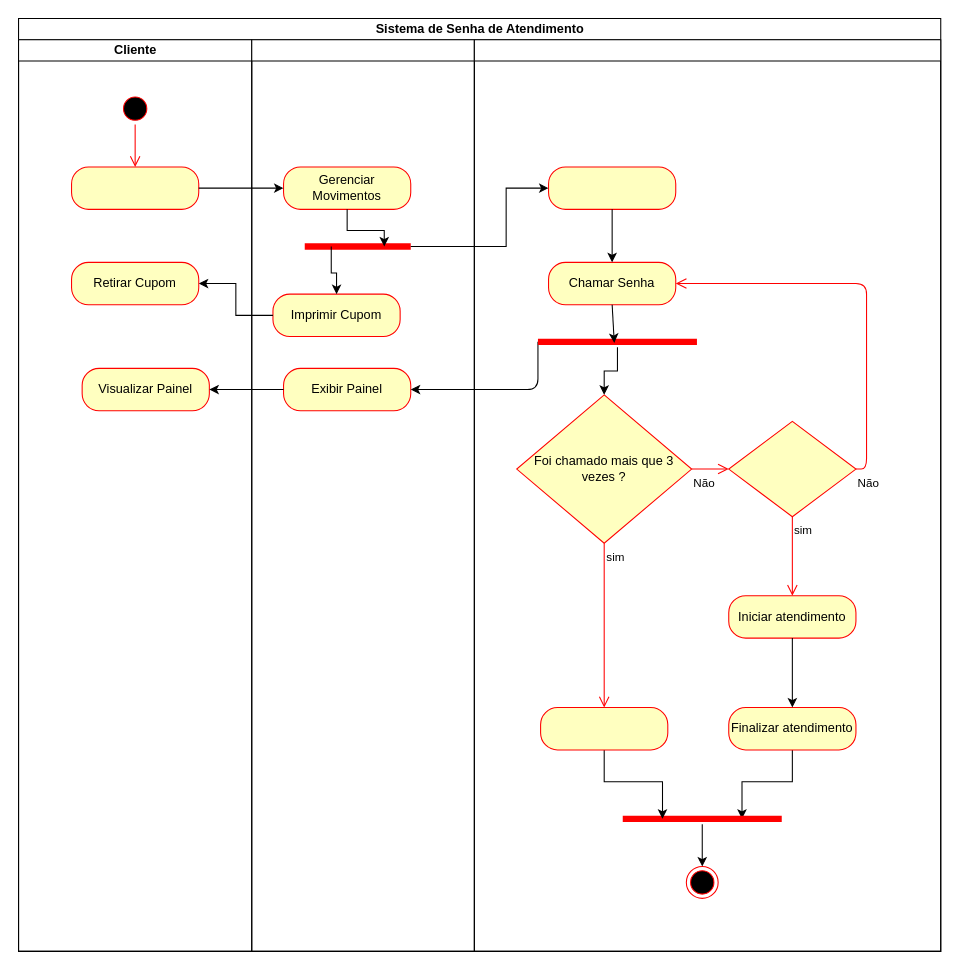
Some shapes in this 959 by 970 pixel diagram are drawn without their labels. Each missing label, with the box of its shape:
Atendente: (473, 39, 941, 951)
Cliente Compareceu?: (728, 420, 856, 517)
Escolher Fila: (70, 166, 199, 209)
Exibir Senhas: (547, 166, 676, 209)
Finalizar sem realizar atendimento: (540, 706, 668, 750)
Sistema: (251, 39, 474, 951)
